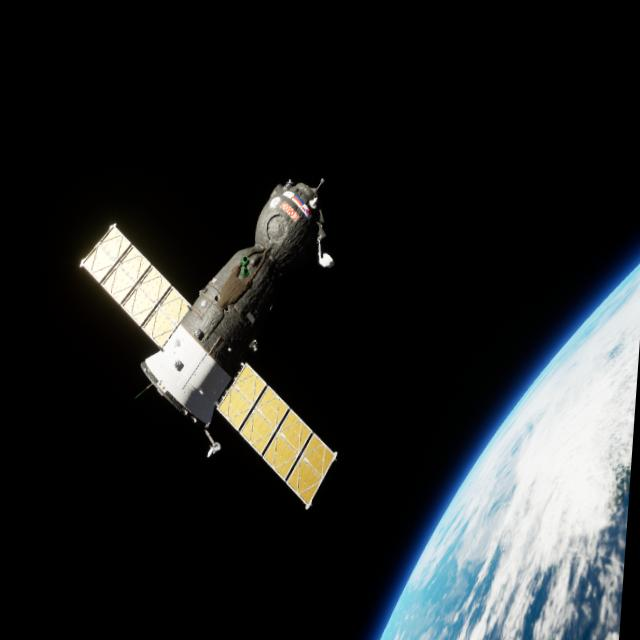Satellites revolving around earth: (60, 158, 359, 514)
